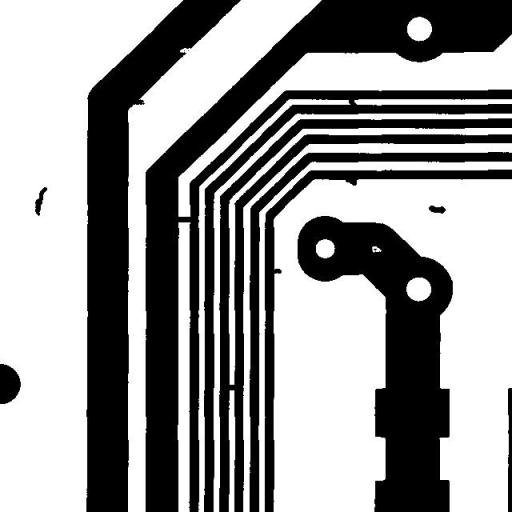copper: (28, 179, 54, 223), (421, 198, 453, 220)
mousebite: (172, 40, 198, 60)
pin-hole: (364, 238, 389, 260)
short: (166, 208, 200, 230), (341, 89, 364, 114), (220, 376, 246, 398)
spur: (338, 169, 364, 193), (125, 91, 152, 112), (265, 261, 289, 281)
